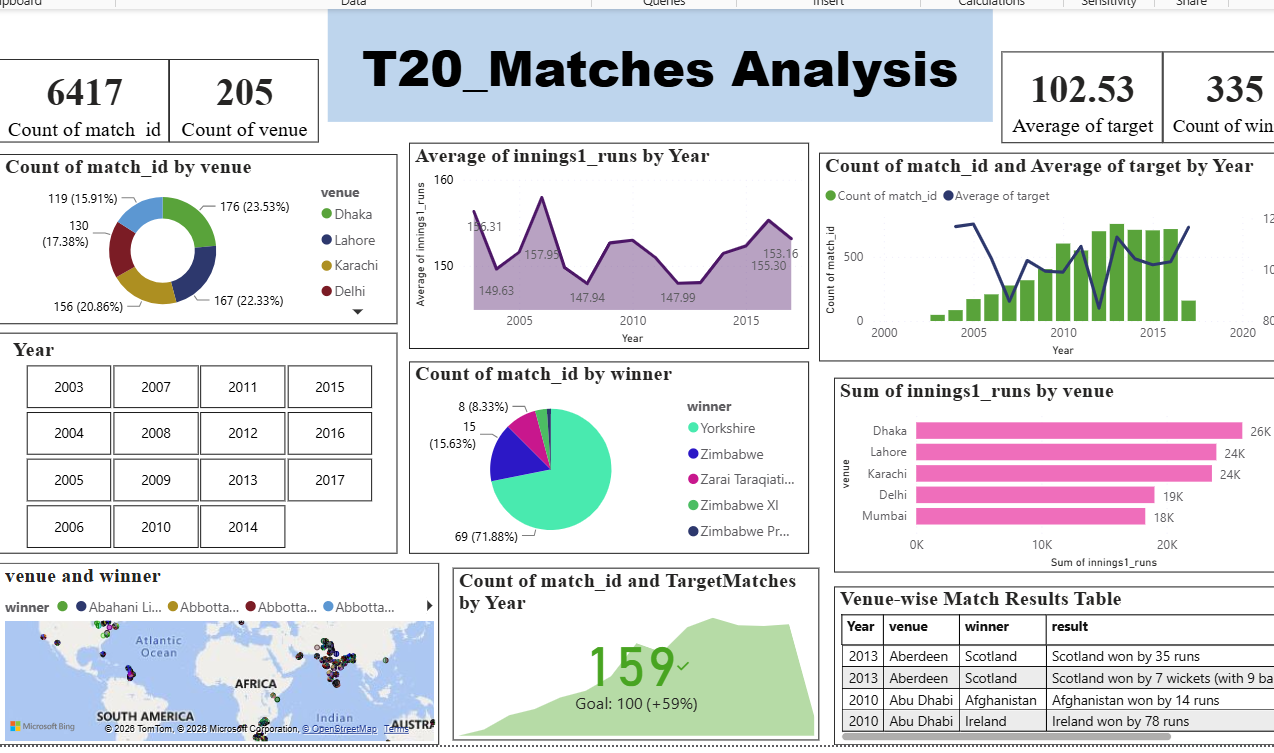

The page's visual inventory and layout, read from the dashboard file:
{"tool":"powerbi","page":{"name":"Dashboard","canvas":[1280,720],"ordinal":0},"visuals":[{"type":"pieChart","fields":{"Category":["t20_matches.winner"],"Y":["CountNonNull(t20_matches.match_id)"]},"box":[401,344.7,391.2,188.3],"z":0},{"type":"stackedAreaChart","fields":{"Category":["t20_matches.date.Variation.Date Hierarchy.Year"],"Y":["Avg(t20_matches.innings1_runs)"]},"box":[401,130.8,391.2,201.7],"z":1000},{"type":"kpi","fields":{"Indicator":["CountNonNull(t20_matches.match_id)"],"TrendLine":["t20_matches.date.Variation.Date Hierarchy.Year"],"Goal":["t20_matches.TargetMatches"]},"box":[443.7,546.4,358.2,168.7],"z":2000},{"type":"donutChart","fields":{"Y":["CountNonNull(t20_matches.match_id)"],"Category":["t20_matches.venue"]},"box":[0,141.8,389.9,166.2],"z":3000},{"type":"tableEx","title":"Venue-wise Match Results Table","fields":{"Values":["t20_matches.date.Variation.Date Hierarchy.Year","t20_matches.venue","t20_matches.winner","t20_matches.result"]},"box":[816.6,564.8,462.1,155.2],"z":4000},{"type":"card","fields":{"Values":["CountNonNull(t20_matches.match_id)"]},"box":[0,48.9,166.2,81.9],"z":5000},{"type":"lineStackedColumnComboChart","fields":{"Category":["t20_matches.date.Variation.Date Hierarchy.Year"],"Y":["CountNonNull(t20_matches.match_id)"],"Y2":["Avg(t20_matches.target)"]},"box":[802.5,140,476.2,203.8],"z":6000},{"type":"barChart","fields":{"Category":["t20_matches.venue"],"Y":["Sum(t20_matches.innings1_runs)"]},"box":[816.6,360.6,462.1,190.7],"z":7000},{"type":"map","fields":{"Category":["t20_matches.venue"],"Series":["t20_matches.winner"]},"box":[0,541.5,430.3,178.5],"z":8000},{"type":"slicer","fields":{"Values":["t20_matches.date.Variation.Date Hierarchy.Year"]},"box":[0,316.6,389.9,216.4],"z":9000},{"type":"card","fields":{"Values":["Count(t20_matches.winner)"]},"box":[1138.1,41.6,140.6,89.2],"z":10000},{"type":"card","fields":{"Values":["Avg(t20_matches.target)"]},"box":[980.4,41.6,157.7,89.2],"z":11000},{"type":"card","fields":{"Values":["Count(t20_matches.venue)"]},"box":[166.2,48.9,146.7,81.9],"z":12000},{"type":"textbox","box":[321.5,0,650.3,110],"z":13000}]}

Visuals, with their boxes in screenshot pixels (x1, y1, x2, y2):
pieChart - t20_matches.winner x CountNonNull(t20_matches.match_id): <region>408, 361, 806, 552</region>
stackedAreaChart - t20_matches.date.Variation.Date Hierarchy.Year x Avg(t20_matches.innings1_runs): <region>408, 143, 806, 348</region>
kpi - CountNonNull(t20_matches.match_id) x t20_matches.date.Variation.Date Hierarchy.Year: <region>452, 566, 816, 738</region>
donutChart - CountNonNull(t20_matches.match_id) x t20_matches.venue: <region>0, 154, 397, 323</region>
"Venue-wise Match Results Table" tableEx: <region>831, 585, 1273, 743</region>
card - CountNonNull(t20_matches.match_id): <region>0, 60, 169, 143</region>
lineStackedColumnComboChart - t20_matches.date.Variation.Date Hierarchy.Year x CountNonNull(t20_matches.match_id): <region>817, 152, 1273, 360</region>
barChart - t20_matches.venue x Sum(t20_matches.innings1_runs): <region>831, 377, 1273, 571</region>
map - t20_matches.venue x t20_matches.winner: <region>0, 561, 438, 743</region>
slicer - t20_matches.date.Variation.Date Hierarchy.Year: <region>0, 332, 397, 552</region>
card - Count(t20_matches.winner): <region>1158, 52, 1273, 143</region>
card - Avg(t20_matches.target): <region>998, 52, 1158, 143</region>
card - Count(t20_matches.venue): <region>169, 60, 318, 143</region>
textbox: <region>327, 10, 989, 122</region>
